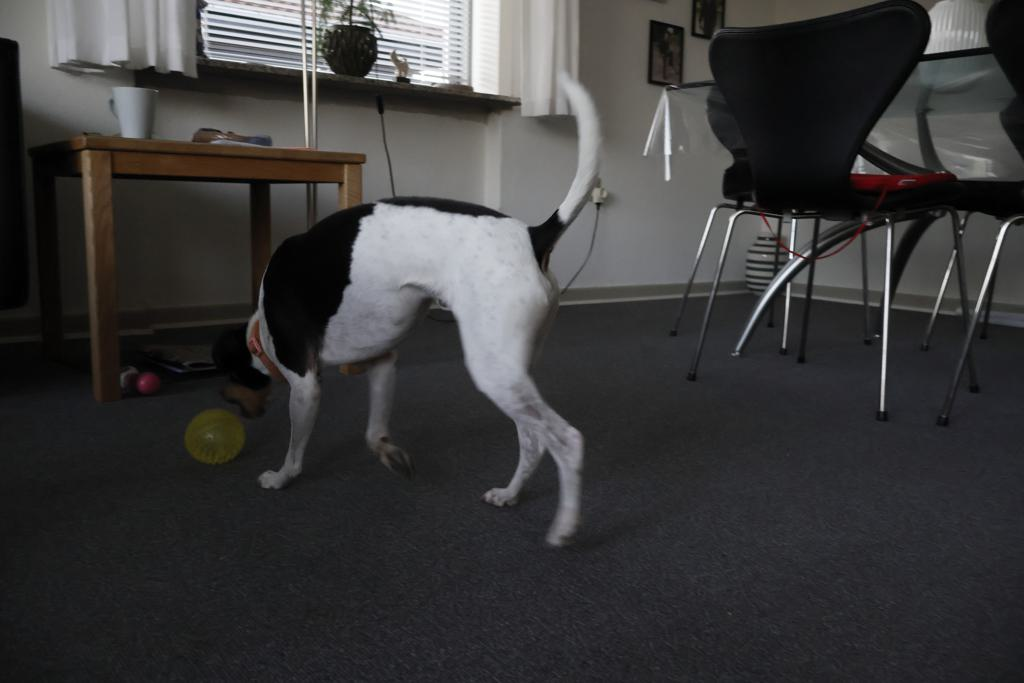Dog: (197, 62, 628, 562)
